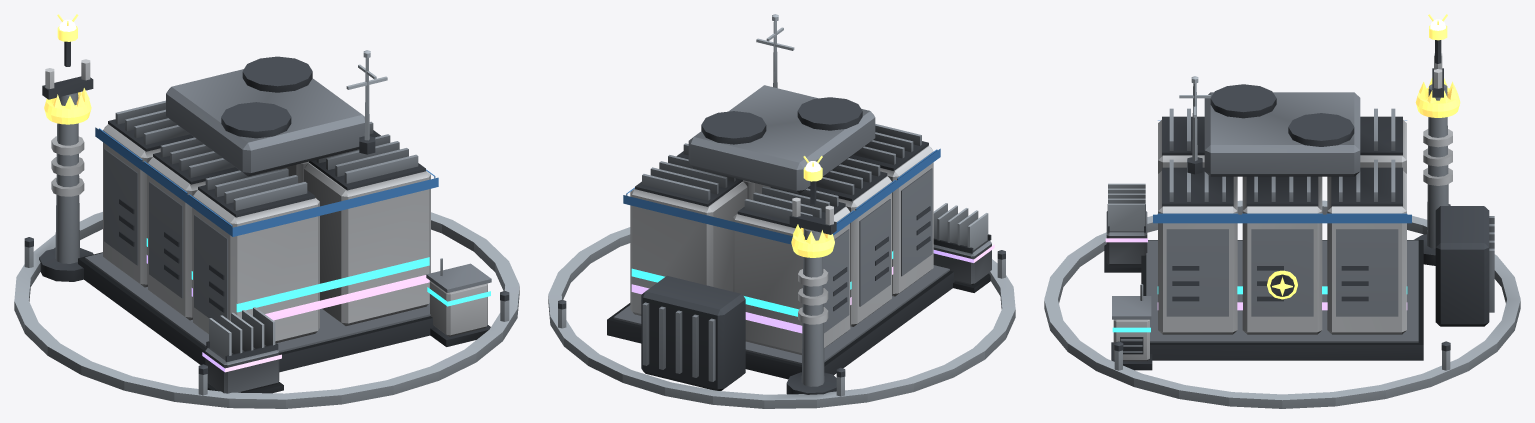
The model's file is battery_l.glb.
3 views of the same model, side by side, from view 1: azimuth 30°, elevation 25°; view 2: azimuth 150°, elevation 25°; view 3: azimuth 270°, elevation 25° (orthographic). The views are drawn at different scales.
Visible parts, largest first — view 1: Base, L2, L4, L3, L5; view 2: Base, L2, L4, L5, L3; view 3: Base, L2, L4, L3, L5.
Part boxes in pixels (x1,y1,x2,y2): Base: (39, 56, 438, 372); L2: (14, 50, 519, 408); L4: (146, 255, 429, 393); L3: (146, 238, 491, 346); L5: (44, 14, 91, 124); Base: (607, 85, 955, 394); L2: (548, 14, 1015, 408); L4: (631, 203, 994, 333); L5: (791, 156, 834, 257); L3: (631, 251, 893, 316); Base: (1141, 53, 1494, 360); L2: (1044, 76, 1520, 408); L4: (1104, 183, 1407, 310); L3: (1111, 284, 1407, 370); L5: (1267, 14, 1460, 299).
Bounding box in the file's own units: 4.9 × 2.91 × 4.9.
